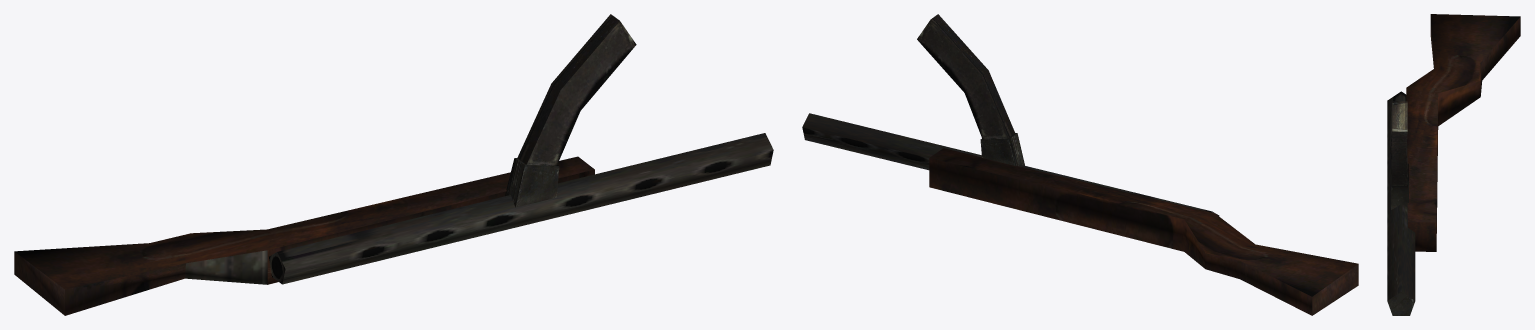
The model's file is weapon_jap_smg_type100_LOD31.obj.
The picture shows the model from 3 angles, left to right: view 1: azimuth 30°, elevation 25°; view 2: azimuth 150°, elevation 25°; view 3: azimuth 270°, elevation 25°; orthographic projection. The views are drawn at different scales.
Parts seen in each view (by area): view 1: TomGroup_0, TomGroup_1; view 2: TomGroup_1, TomGroup_0; view 3: TomGroup_1, TomGroup_0.
Boxes of the visible parts, x1,y1,x2,y2 form: TomGroup_0: (269, 14, 773, 284); TomGroup_1: (14, 156, 594, 315); TomGroup_1: (929, 148, 1358, 315); TomGroup_0: (802, 14, 1219, 215); TomGroup_1: (1406, 14, 1520, 251); TomGroup_0: (1387, 91, 1415, 315).
Bounding box in the file's own units: 96.06 × 25.36 × 19.34.
2 materials, 2 textured.
